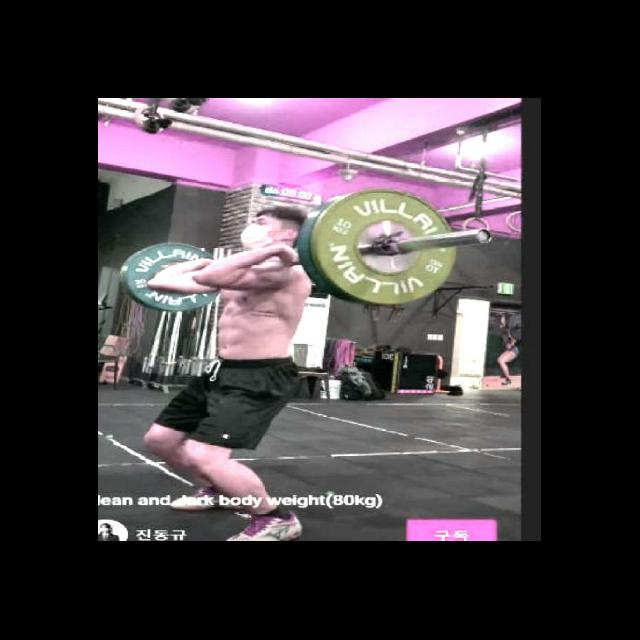barbell: (309, 184, 492, 310)
